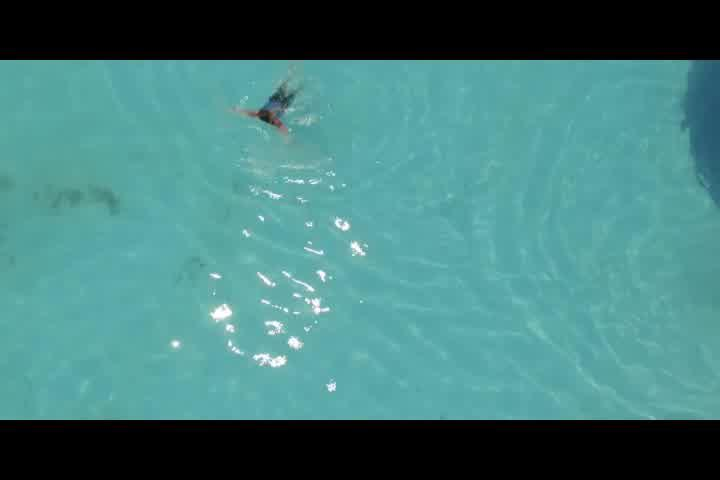swimmer: (229, 74, 304, 138)
